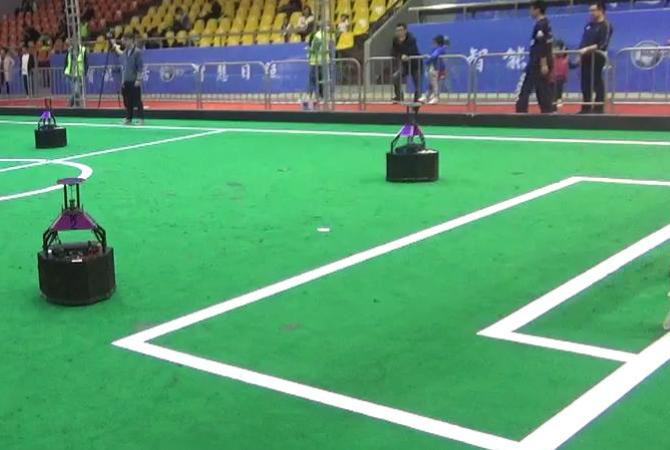robot: (28, 177, 121, 307), (380, 103, 446, 185), (27, 96, 72, 151)
